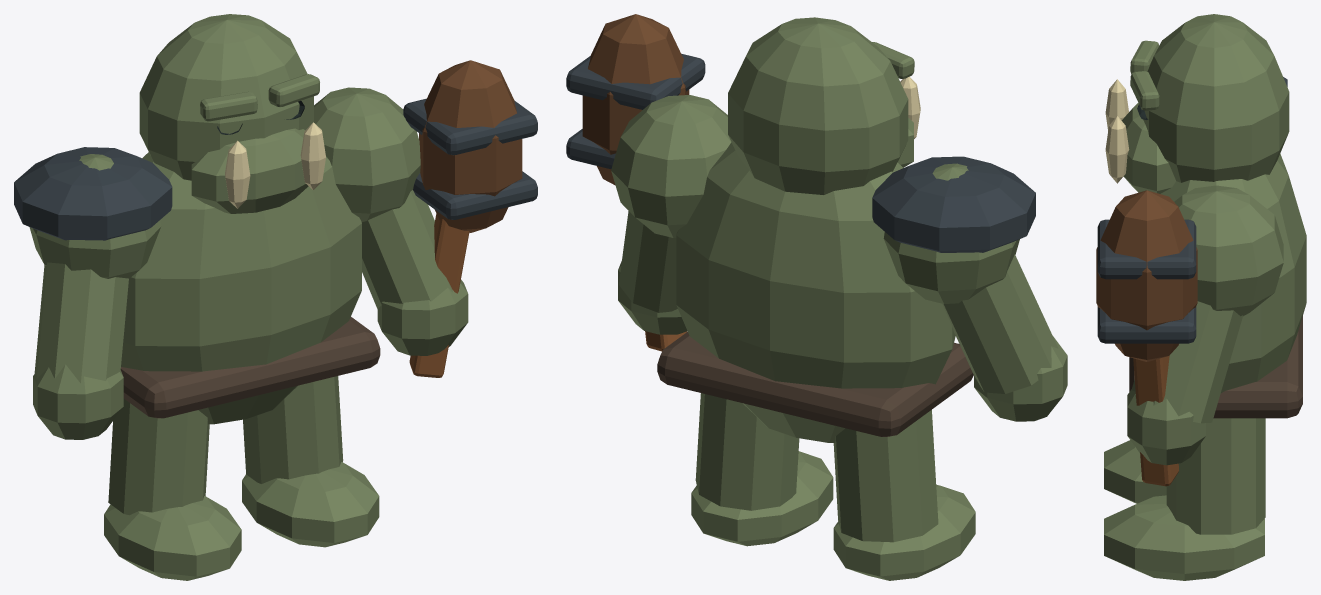
The model's file is ogre.glb.
3 views of the same model, side by side, from view 1: azimuth 30°, elevation 25°; view 2: azimuth 150°, elevation 25°; view 3: azimuth 270°, elevation 25° (orthographic). The views are drawn at different scales.
Parts seen in each view (by area): view 1: ogre; view 2: ogre; view 3: ogre.
Part boxes in pixels (x1,y1,x2,y2): ogre: (14,14,537,580); ogre: (566,14,1067,580); ogre: (1096,14,1306,580).
Bounding box in the file's own units: 2.73 × 2.88 × 1.07.
